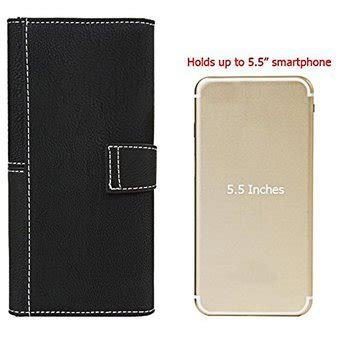gamuza: (7, 18, 154, 316)
